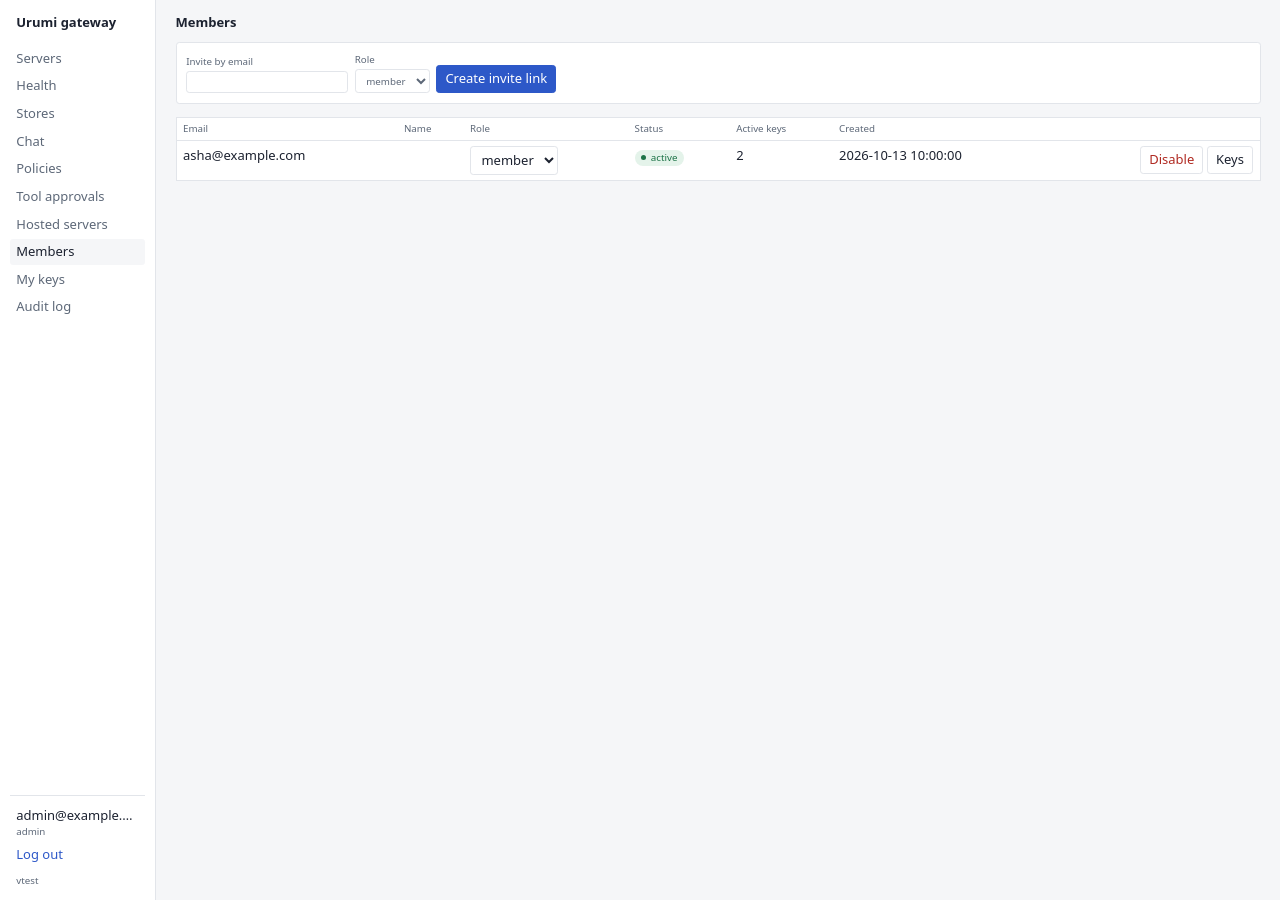
Members key limits through the real routes › shows each key's limit or 'default'
Click the button "Keys". click: [1230, 160]
box: [1207,146,1253,174]
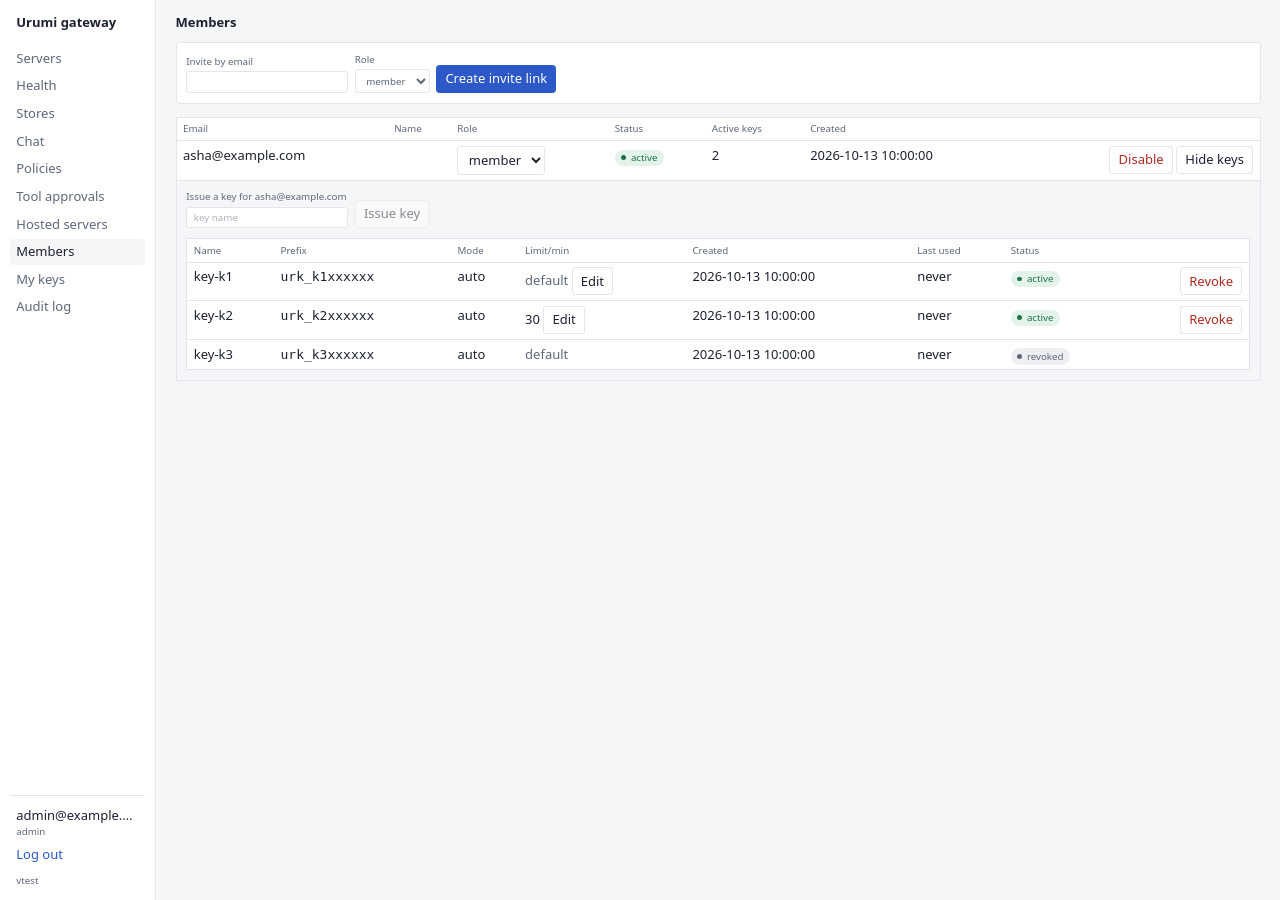
Check: the column heading "Limit/min" is shown, box [519,238,686,262]
Check: the text "default" in the row of "key-k1" is shown, box [525,272,568,290]
Check: the text "30" is shown, box [525,310,540,328]
